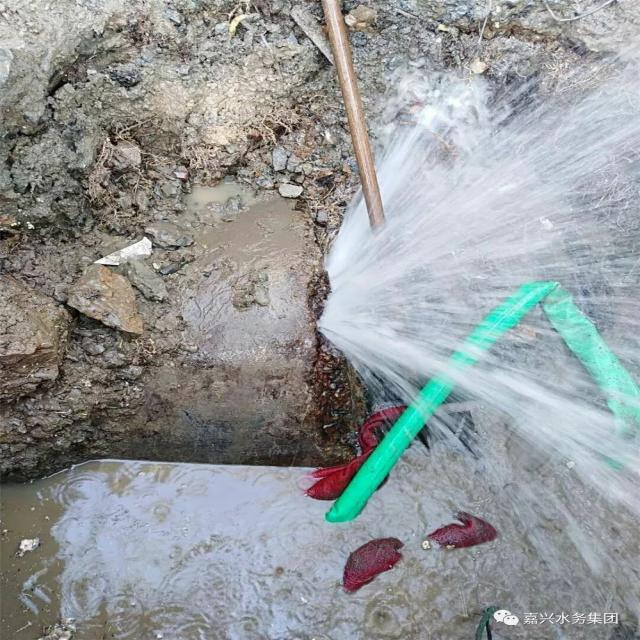leak: (321, 64, 638, 398), (453, 308, 638, 509)
